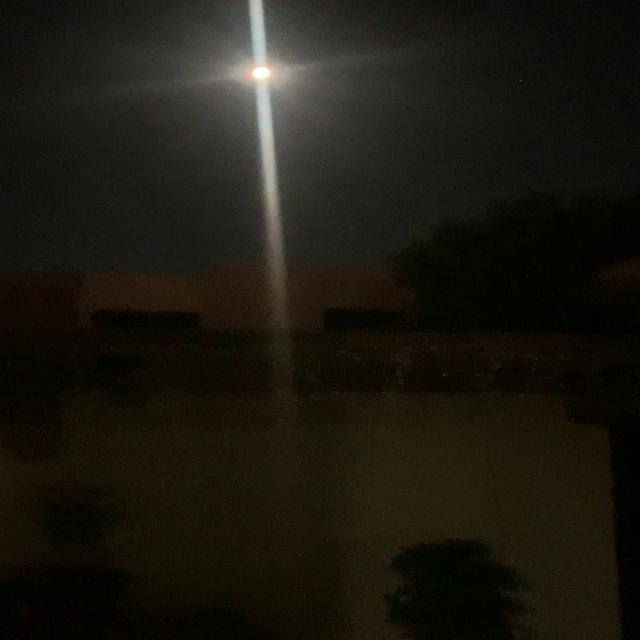moon: (226, 57, 288, 90)
